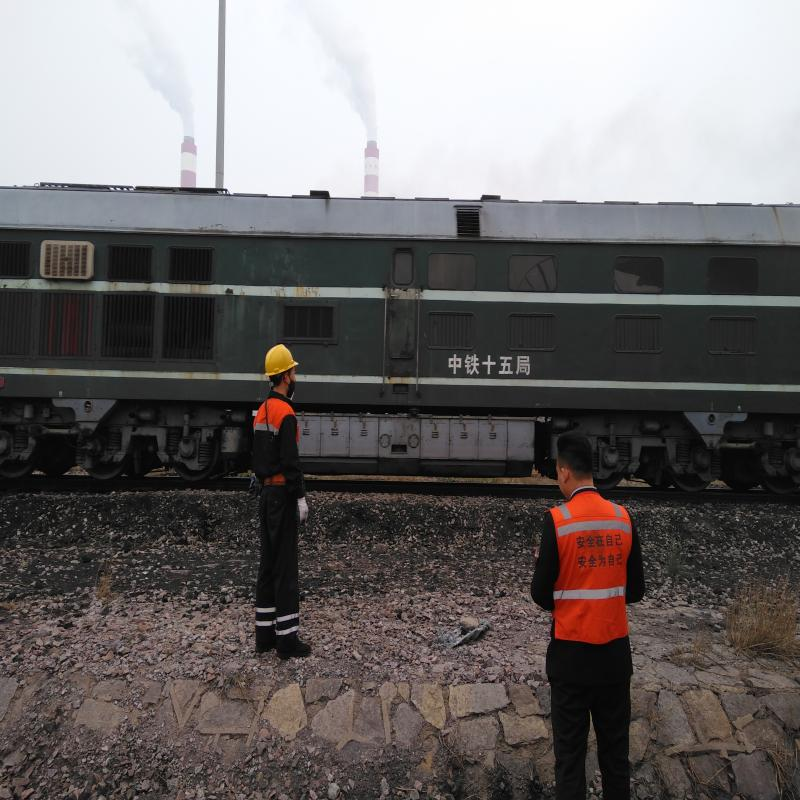train: (19, 184, 227, 484)
